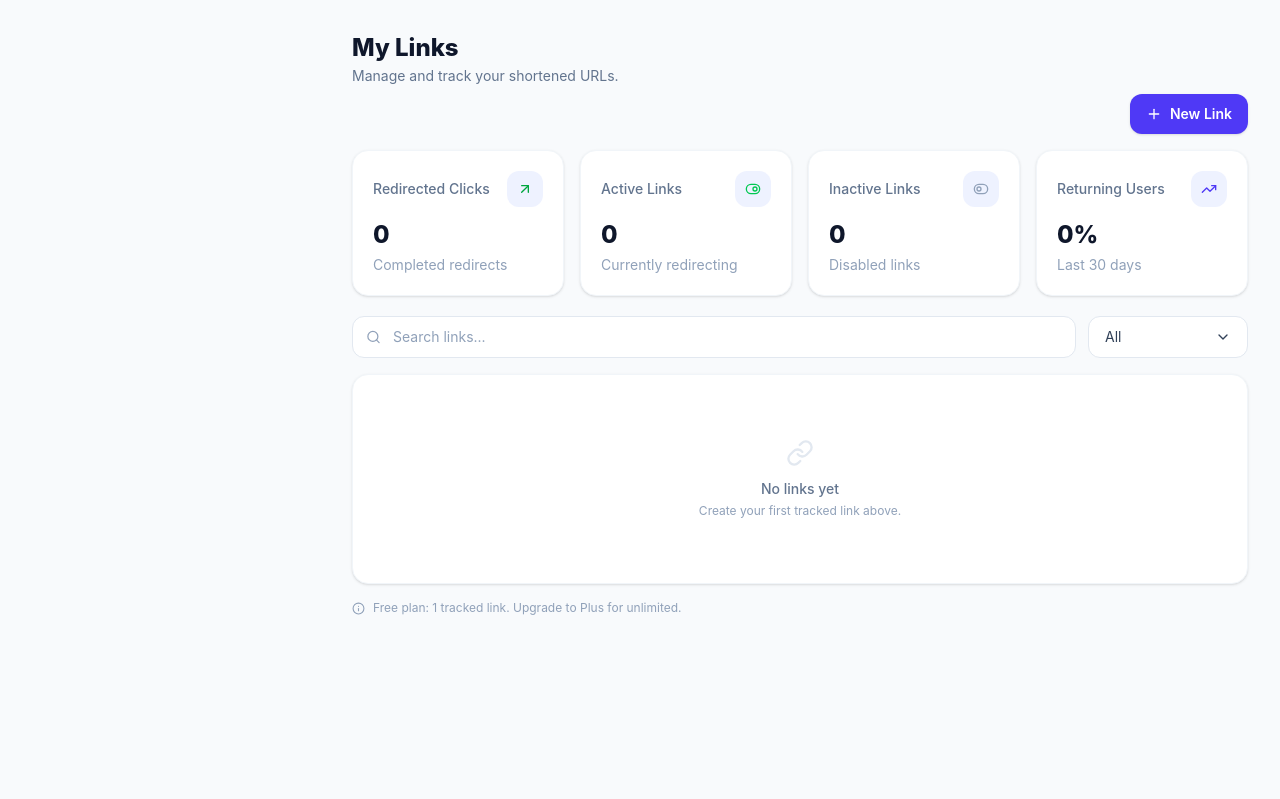
Dashboard - create-link flow › a server refusal surfaces its message in the error banner
The image size is (1280, 799).
Expected: the text "No links yet" is shown, [761,480,839,497]
Click the button "New Link" at x=1189, y=114, box [1130,94,1248,134]
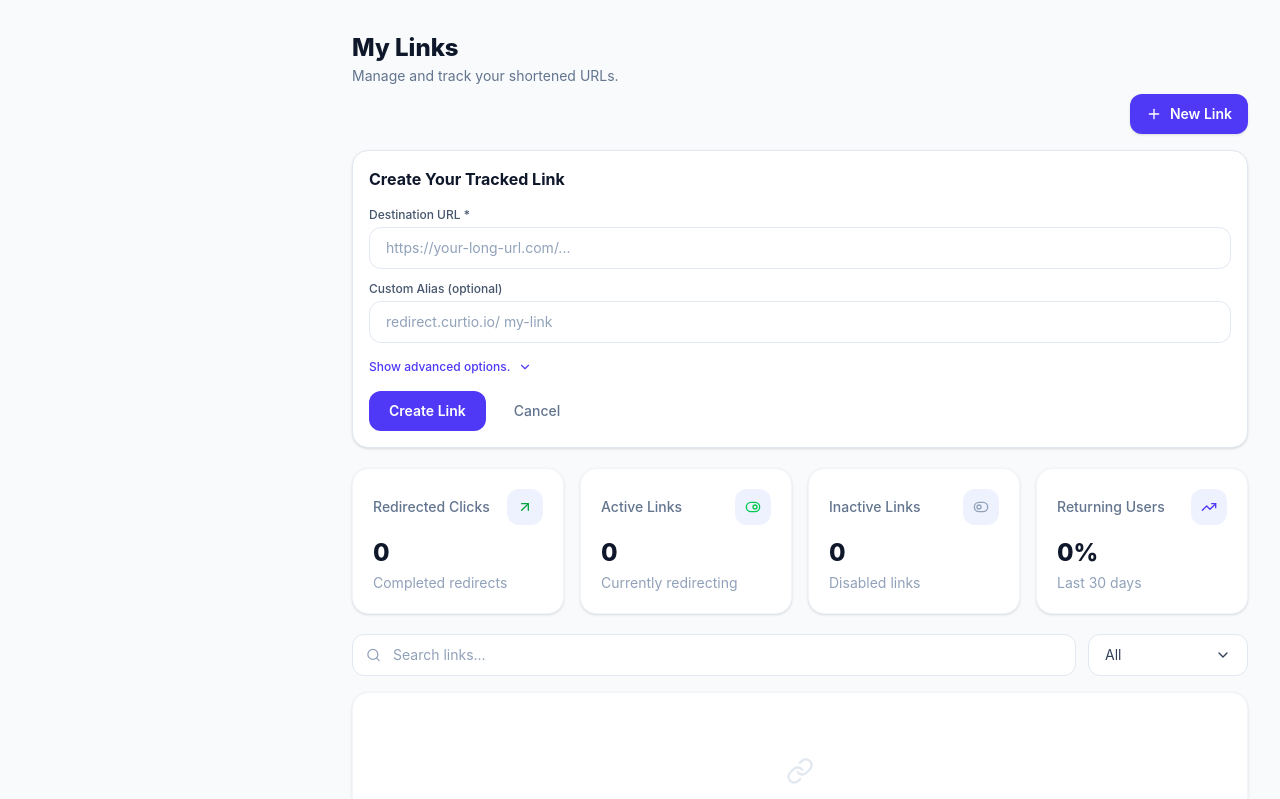
Type "https://example.com/page" into the field with placeholder "https://your-long-url.com/..." at x=800, y=248, box [369,227,1231,269]
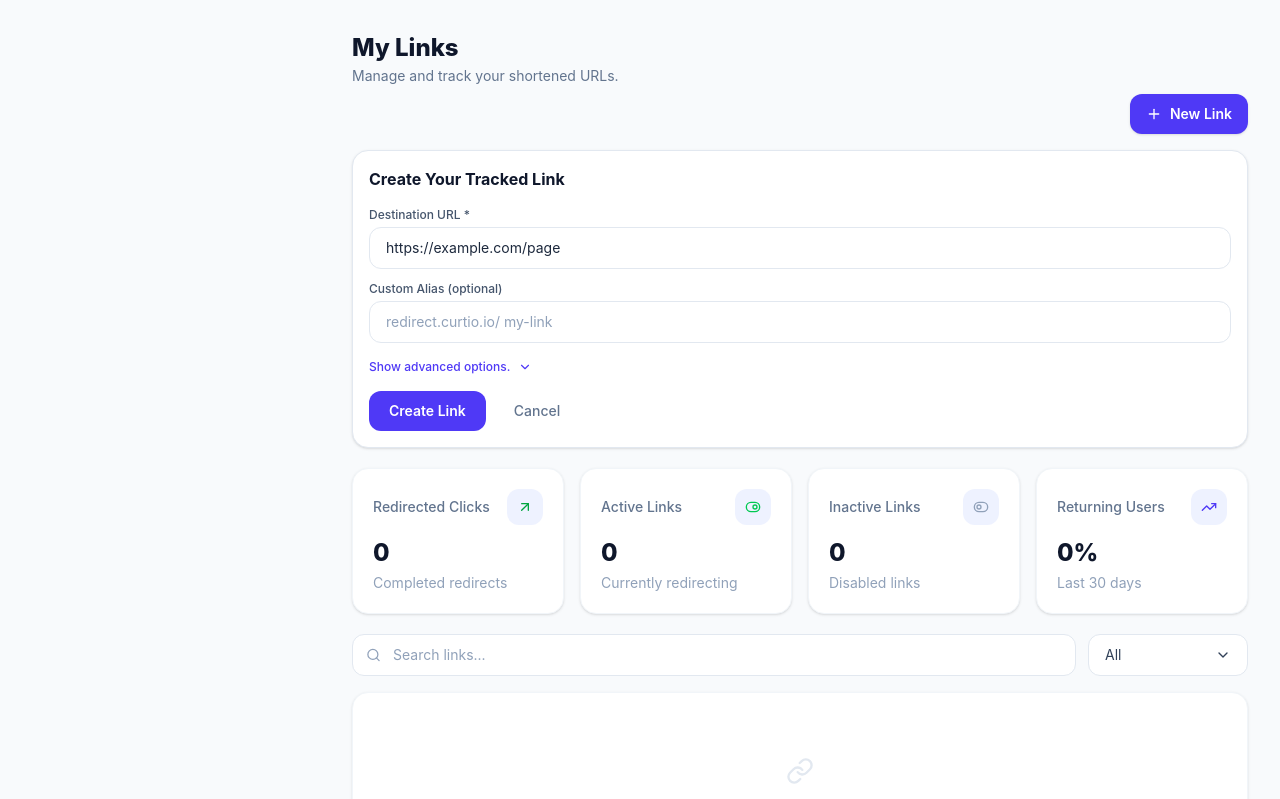
Click the button "Create Link" at x=427, y=411, box [369,391,486,431]
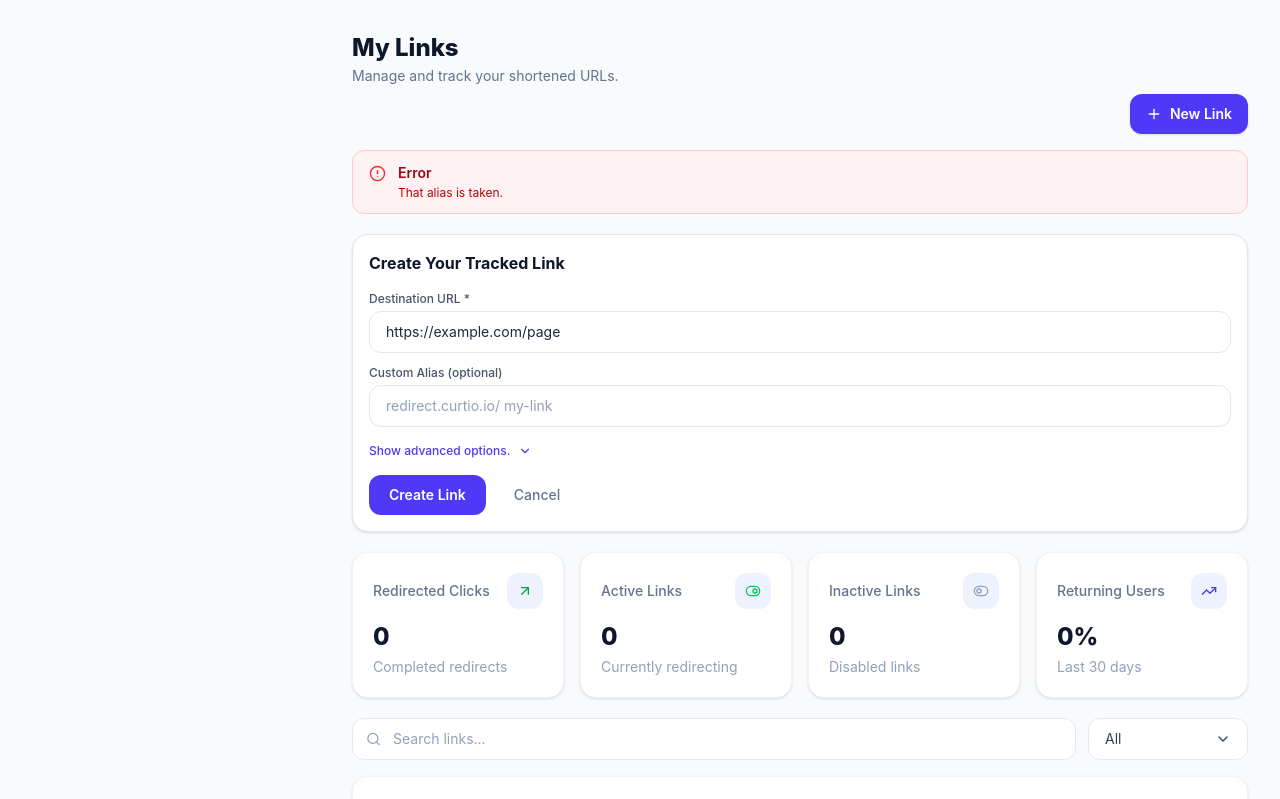
Now the text "That alias is taken." is shown, box [398,185,503,201]
